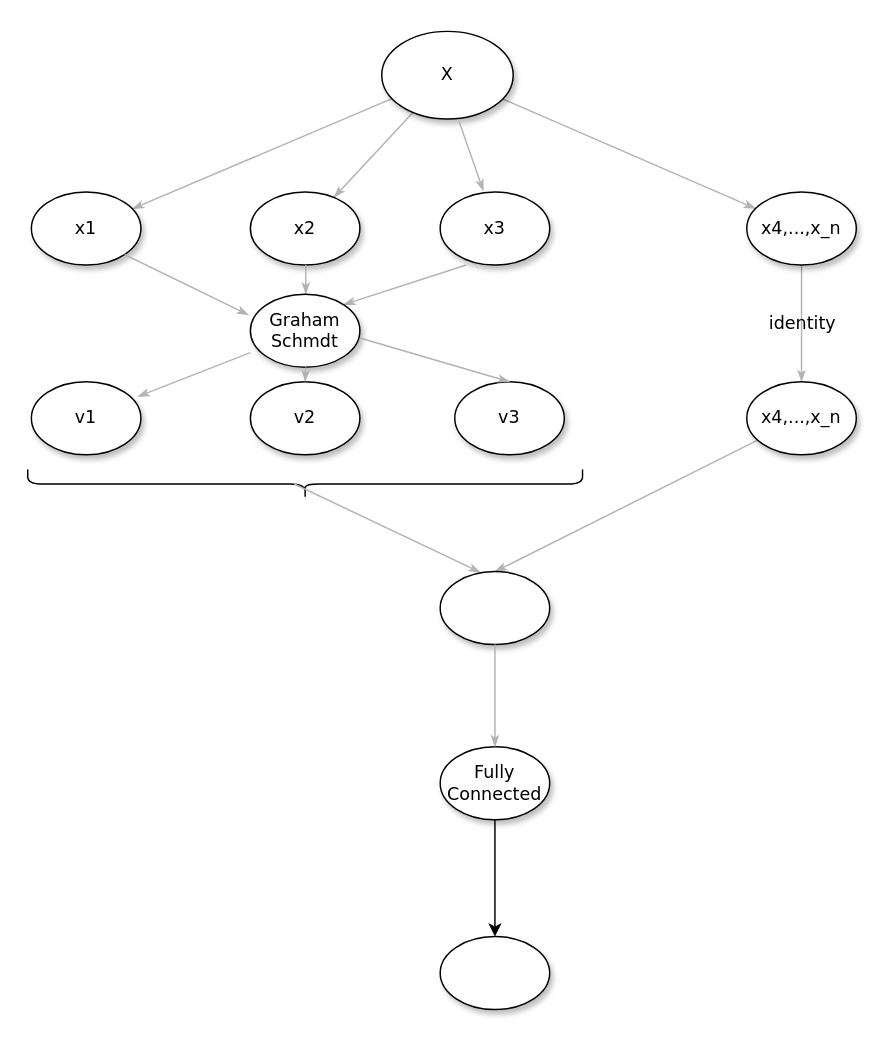
The diagram is 891 pixels wide and 1045 high, and some of its shapes have lost their labels. The shapes that lost their labels are listed below. From the top down, each one's centre as x and y in pixels, then its label:
At pixel 495 609: "G_1_2_3".
At pixel 495 974: "output".
